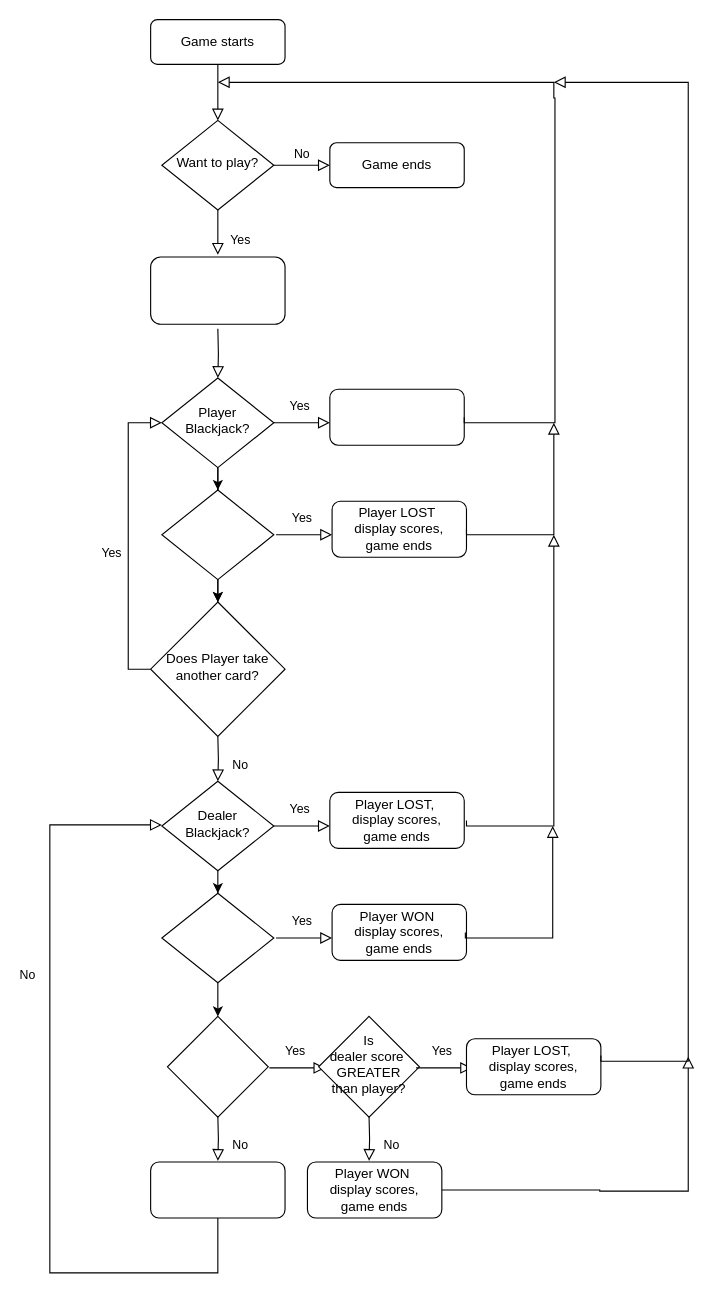
This 719x1304 diagram has some shape labels left out. Here are the shapes that lost their labels. From the top down, the box of each, then its label:
(150, 256, 285, 324): (RESET) Display art Initial card deal
(329, 388, 464, 445): Player WON, display scores, game ends
(161, 489, 274, 580): Player over 21?
(161, 892, 274, 983): Dealer Over 21?
(166, 1015, 268, 1117): Is dealer score over 17?
(150, 1161, 285, 1218): Dealer takes a card
